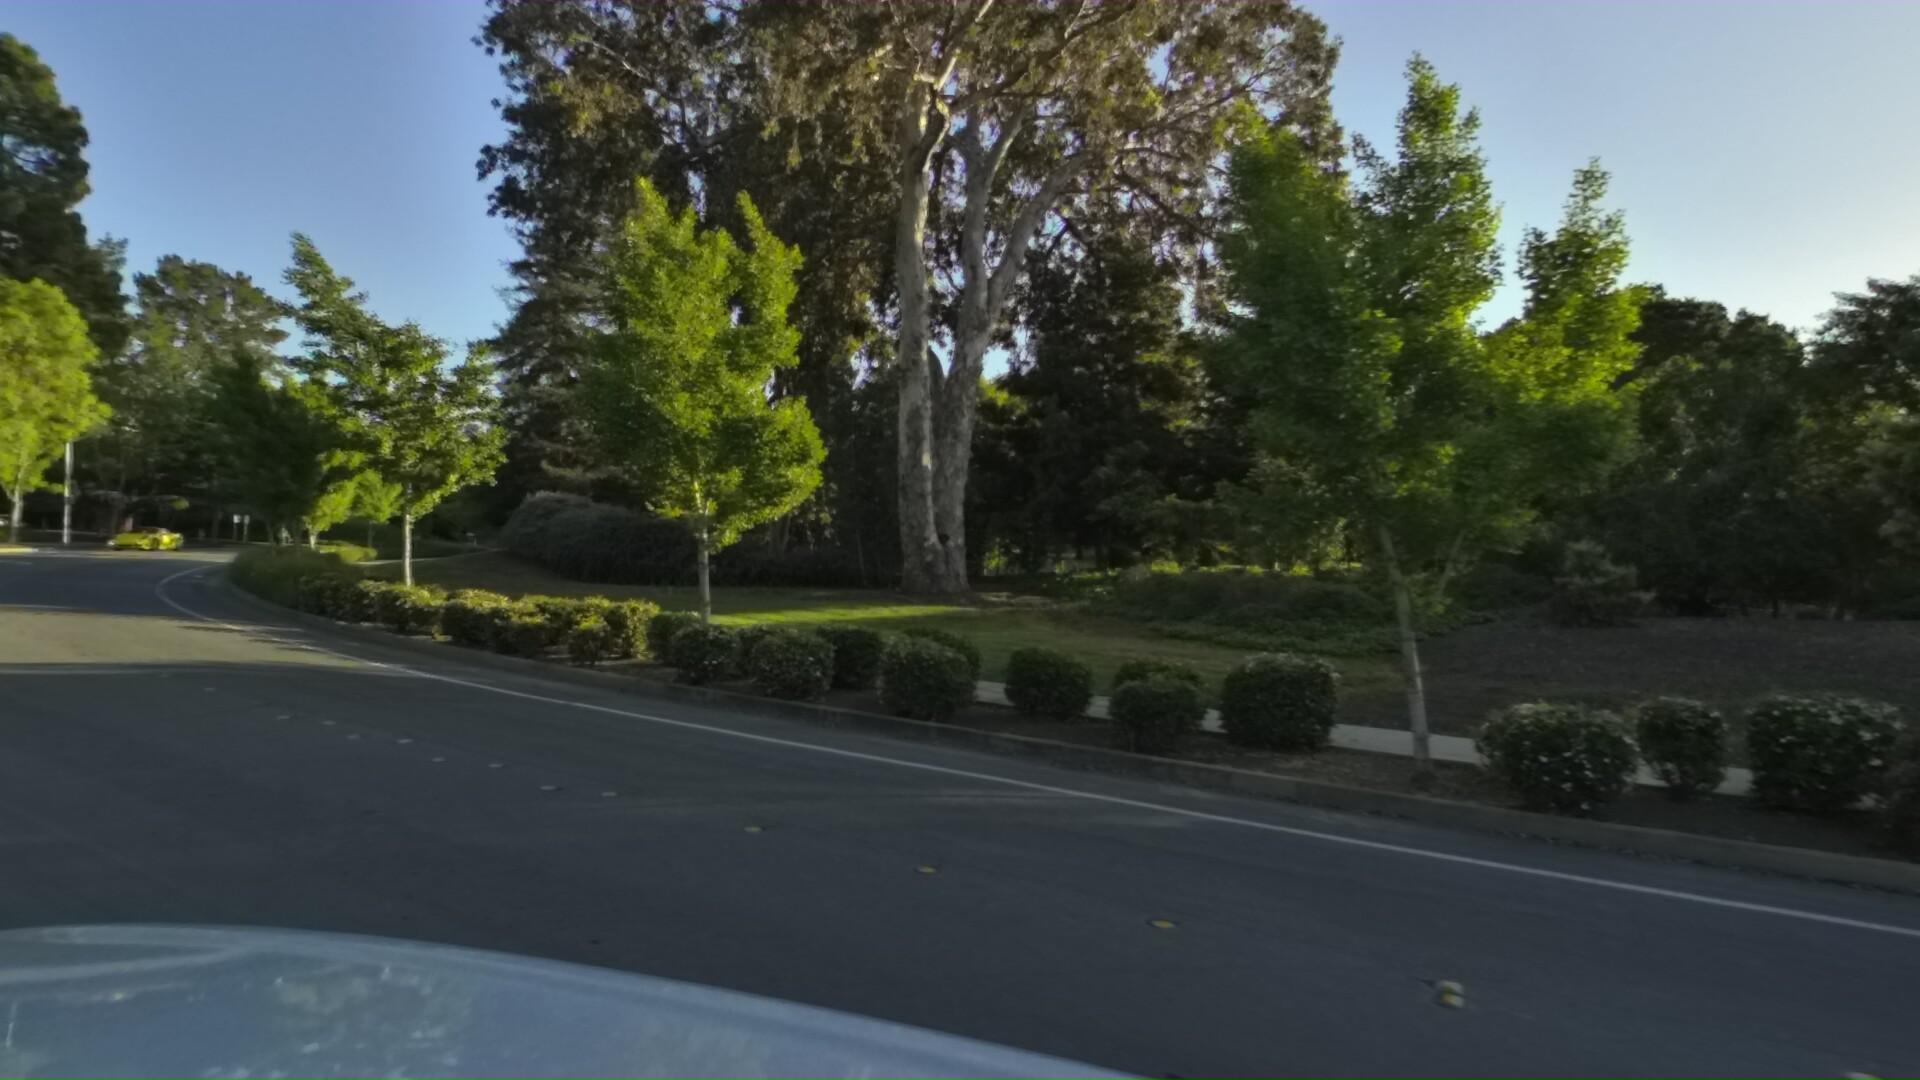bicycle: (400, 527, 429, 556)
car: (100, 520, 195, 553)
